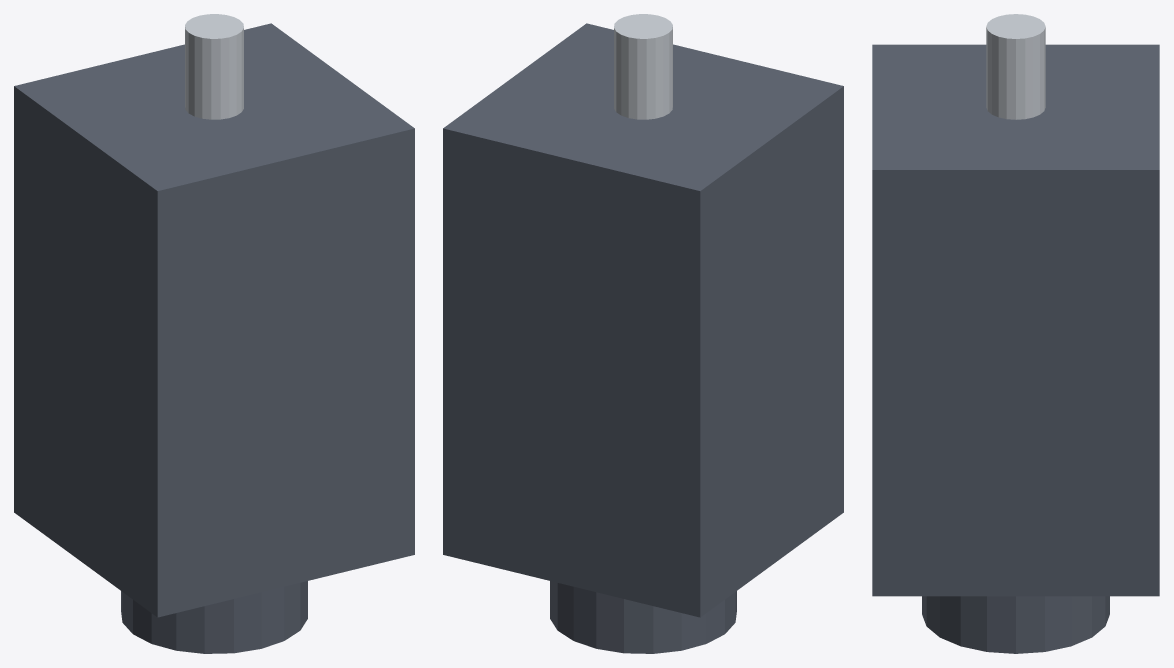
Rendered from chip-camera-head-v1.glb.
3 views of the same model, side by side, from view 1: azimuth 30°, elevation 25°; view 2: azimuth 150°, elevation 25°; view 3: azimuth 270°, elevation 25° (orthographic).
Visible parts, largest first — view 1: black camera housing, black lens mount, silver top connector; view 2: black camera housing, black lens mount, silver top connector; view 3: black camera housing, black lens mount, silver top connector.
Part boxes in pixels (x1,y1,x2,y2): black camera housing: (14, 23, 414, 617); black lens mount: (121, 581, 307, 653); silver top connector: (185, 14, 243, 119); black camera housing: (443, 23, 843, 617); black lens mount: (550, 581, 736, 653); silver top connector: (614, 14, 672, 119); black camera housing: (872, 44, 1159, 596); black lens mount: (922, 596, 1109, 653); silver top connector: (986, 14, 1045, 119).
Bounding box in the file's own units: 0.06 × 0.131 × 0.058.
